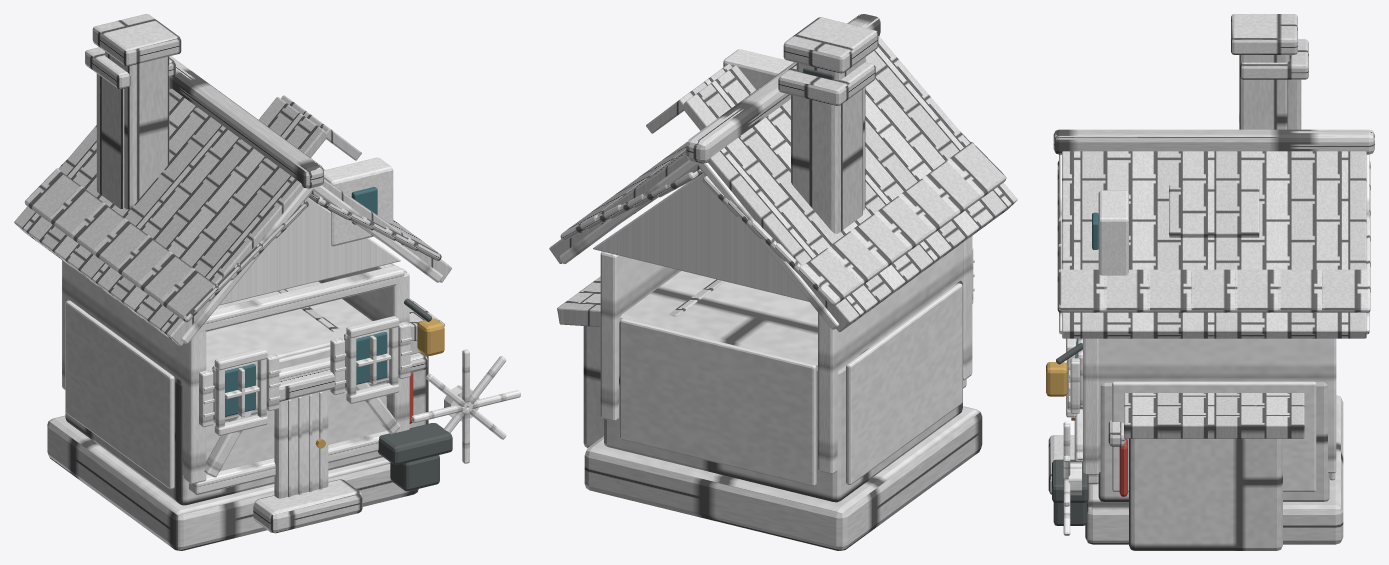
File: workshop.glb
3 views of the same model, side by side, from view 1: azimuth 30°, elevation 25°; view 2: azimuth 150°, elevation 25°; view 3: azimuth 270°, elevation 25° (orthographic). The views are drawn at different scales.
Visible parts, largest first — view 1: BlacksmithWorkshop_Geometry; view 2: BlacksmithWorkshop_Geometry; view 3: BlacksmithWorkshop_Geometry.
Boxes of the visible parts, box(x1,y1,x2,y2) form: BlacksmithWorkshop_Geometry: box(14, 14, 520, 550); BlacksmithWorkshop_Geometry: box(549, 14, 1017, 550); BlacksmithWorkshop_Geometry: box(1046, 14, 1374, 550).
Bounding box in the file's own units: 2.35 × 2.83 × 1.96.
14 materials, 10 textured.
